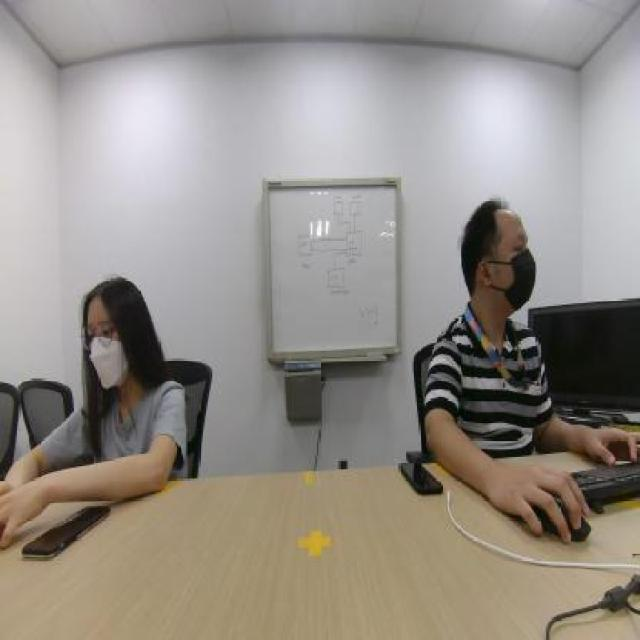Person: (423, 198, 568, 457), (46, 226, 199, 468)
